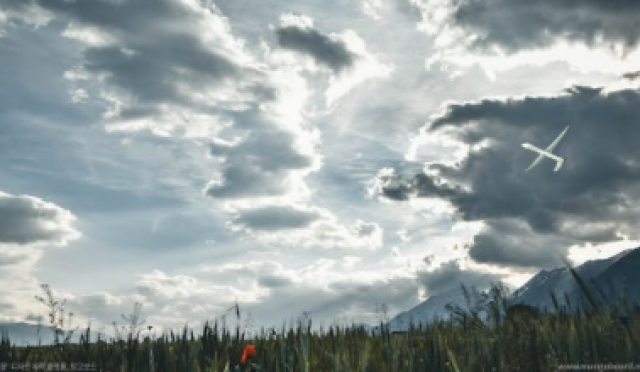military drone: (519, 124, 570, 172)
